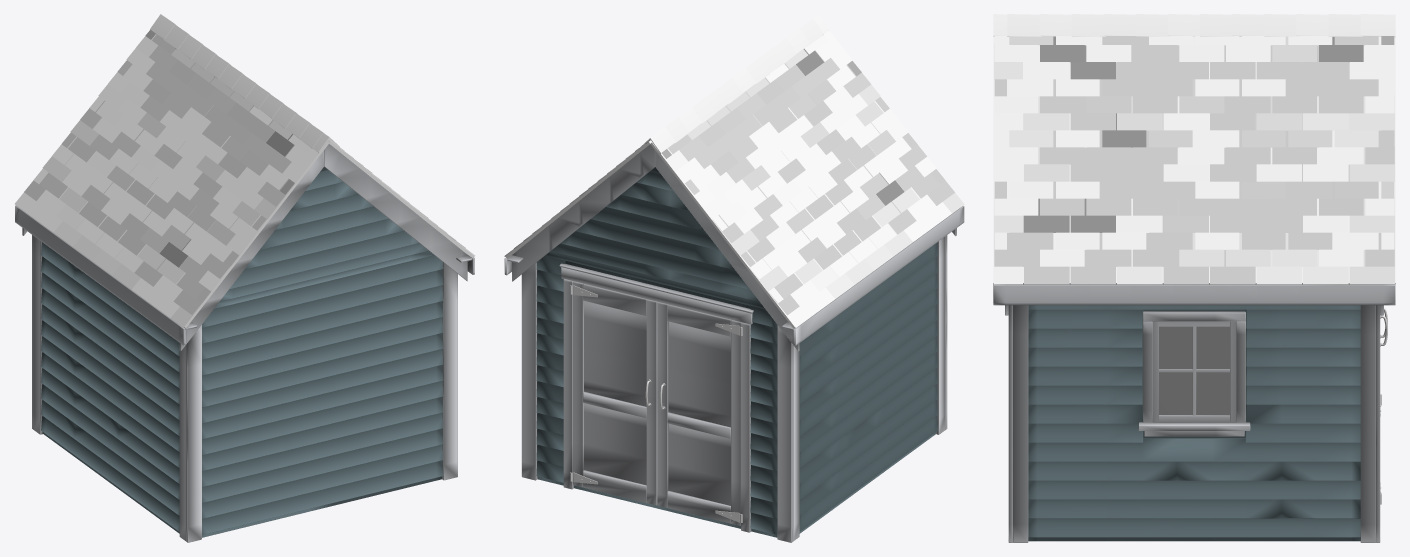
Rendered from shed.fbx.
3 renders of one model, left to right at view 1: azimuth 30°, elevation 25°; view 2: azimuth 150°, elevation 25°; view 3: azimuth 270°, elevation 25°, orthographic. The views are drawn at different scales.
Visible parts, largest first — view 1: Shed; view 2: Shed; view 3: Shed.
Part boxes in pixels (left/top/right/bottom): Shed: left=15, top=14, right=475, bottom=542; Shed: left=504, top=14, right=964, bottom=542; Shed: left=993, top=14, right=1395, bottom=542.
Bounding box in the file's own units: 2.89 × 3.56 × 2.88.
